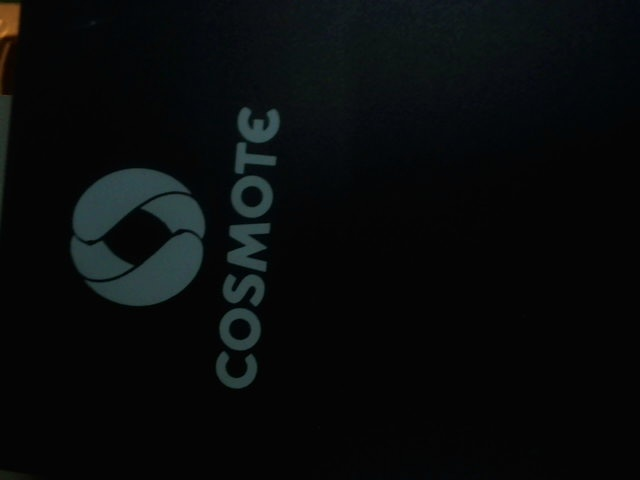AU_COSMOTE: (66, 99, 282, 389)
